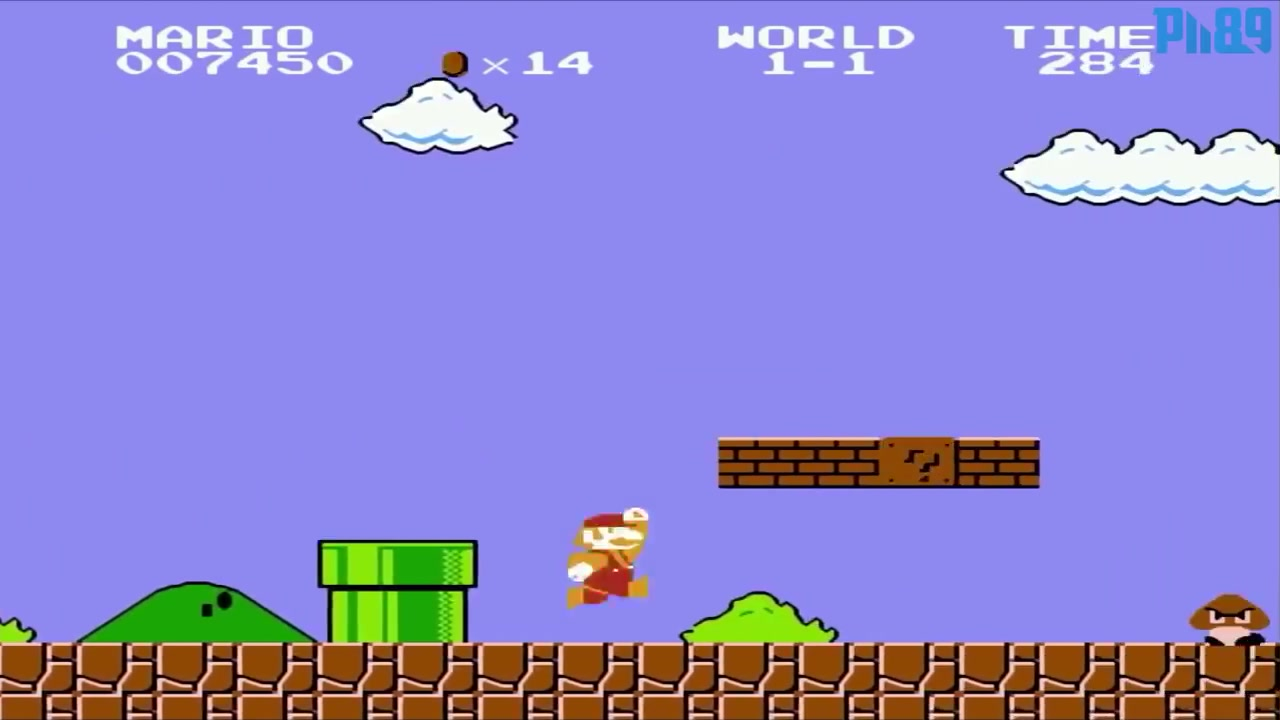mario: (557, 501, 664, 605)
